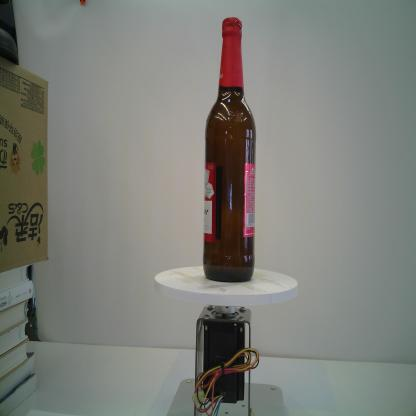Alcohol: (201, 14, 258, 286)
